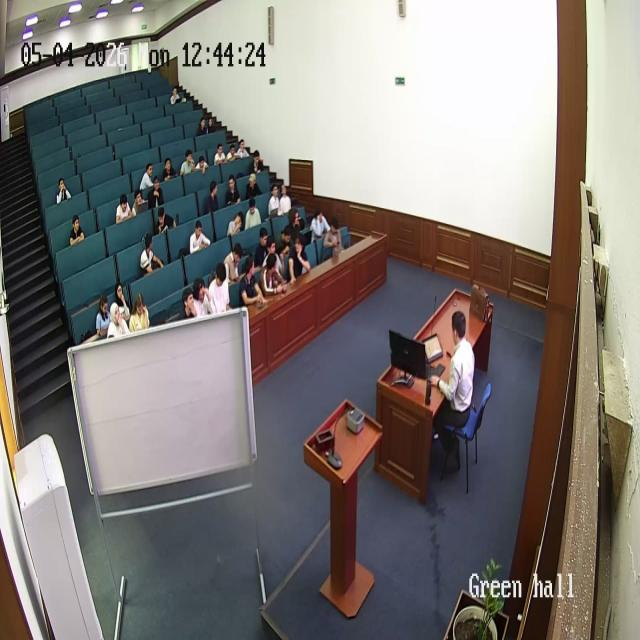person: (430, 311, 476, 471), (238, 255, 264, 309), (258, 250, 286, 300), (286, 232, 311, 284), (207, 262, 231, 315), (275, 228, 295, 282), (253, 226, 275, 274), (221, 243, 244, 287), (139, 234, 163, 276), (108, 298, 130, 338), (128, 292, 150, 332), (191, 276, 211, 318), (94, 296, 112, 340), (114, 281, 132, 325), (188, 219, 211, 253), (286, 207, 307, 244), (322, 219, 342, 257), (309, 207, 330, 242), (179, 287, 199, 320), (115, 193, 135, 224), (156, 205, 176, 235), (243, 172, 263, 202), (244, 197, 262, 230), (147, 178, 165, 210), (224, 174, 242, 206), (226, 209, 245, 238), (68, 216, 86, 246), (205, 181, 220, 216), (277, 182, 292, 216), (132, 187, 149, 216), (268, 183, 282, 218), (56, 177, 72, 204), (162, 156, 178, 182), (180, 149, 196, 175), (142, 162, 156, 191), (224, 140, 240, 164), (249, 149, 263, 175), (194, 153, 210, 174), (214, 143, 228, 166), (236, 139, 250, 160), (205, 115, 218, 134), (196, 116, 208, 136), (170, 85, 182, 105)
